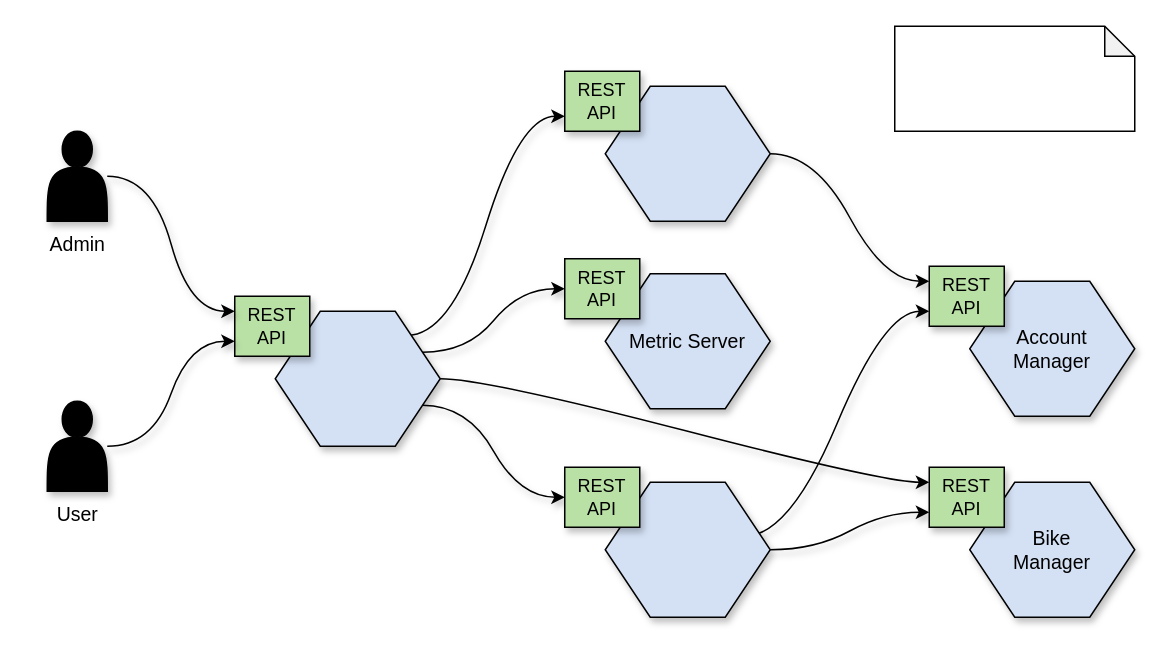
This 1170x654 diagram has some shape labels left out. The shapes that lost their labels are listed below. From the top down, each one's centre as x and y in pixels, then its label:
At point 1014,78: "The Metric Server Service depends on every service".
At point 688,155: "Authentication Server".
At point 358,380: "API Gateway".
At point 688,551: "Ride Manager".
